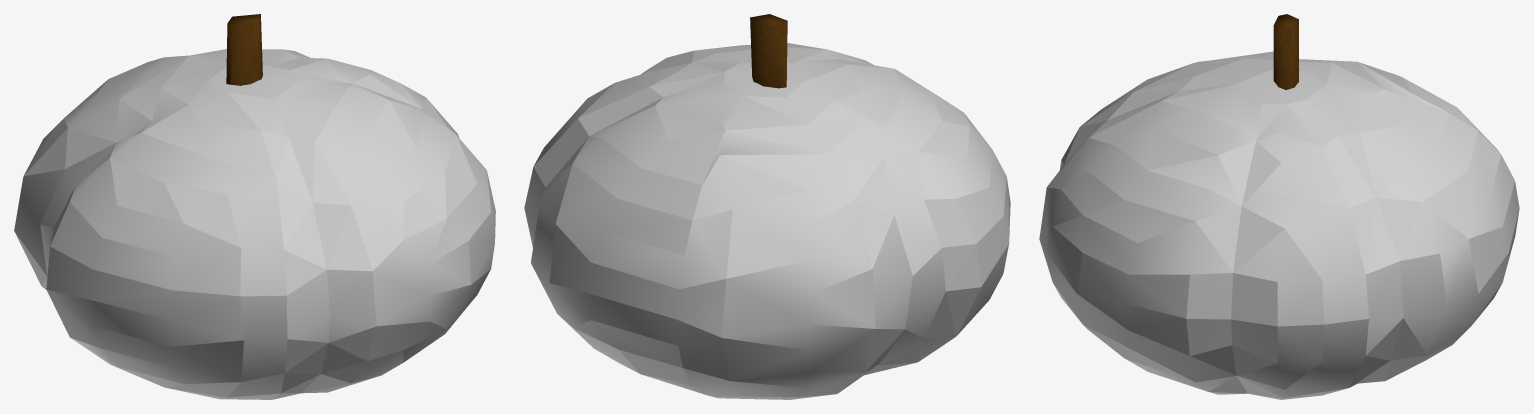
The model's file is Pumpkin2.obj.
3 views of the same model, side by side, from view 1: azimuth 30°, elevation 25°; view 2: azimuth 150°, elevation 25°; view 3: azimuth 270°, elevation 25° (orthographic). The views are drawn at different scales.
Visible parts, largest first — view 1: Cylinder; view 2: Cylinder; view 3: Cylinder.
Part boxes in pixels (x1,y1,x2,y2): Cylinder: (14,14,495,399); Cylinder: (524,14,1010,399); Cylinder: (1039,14,1519,399).
Size of the model in its own units: 3.73 by 2.95 by 3.75.
